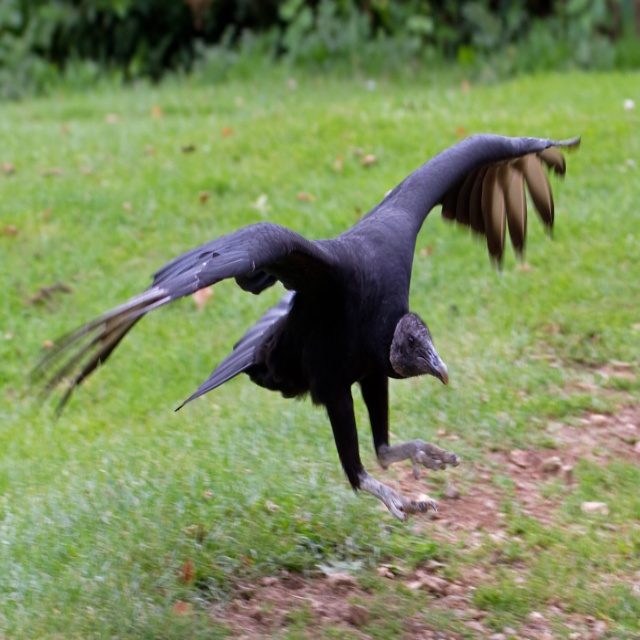Raven: (33, 134, 572, 529)
